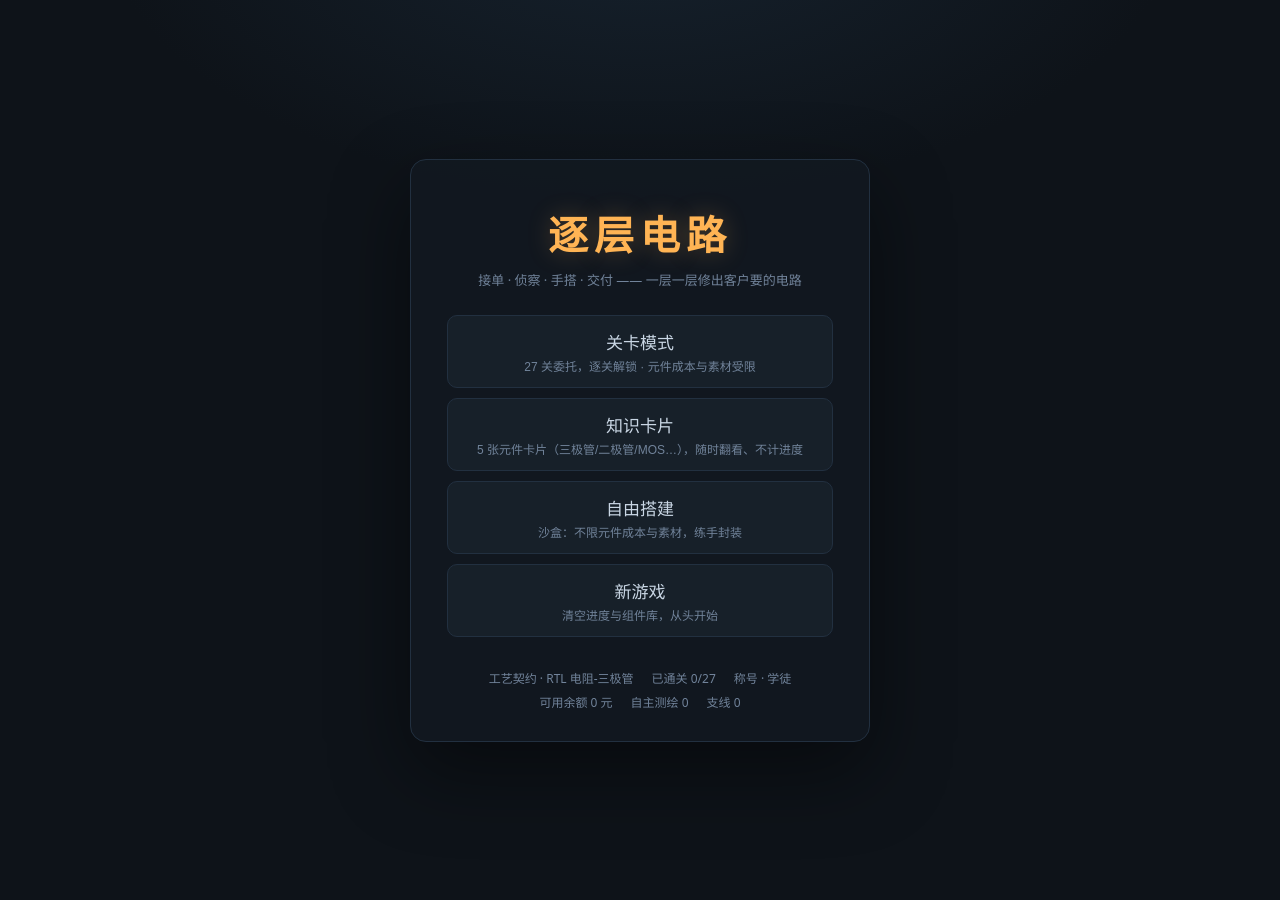
Test: 游戏壳：主菜单 / 关卡地图 / 会话恢复 › 主菜单 → 关卡模式 → 地图：第一章标题出现，未解锁的关节点不可点
Step 1. Click the button "关卡模式 27 关委托，逐关解锁 · 元件成本与素材受限" → {"x": 640, "y": 351}, box [447,314,833,388]
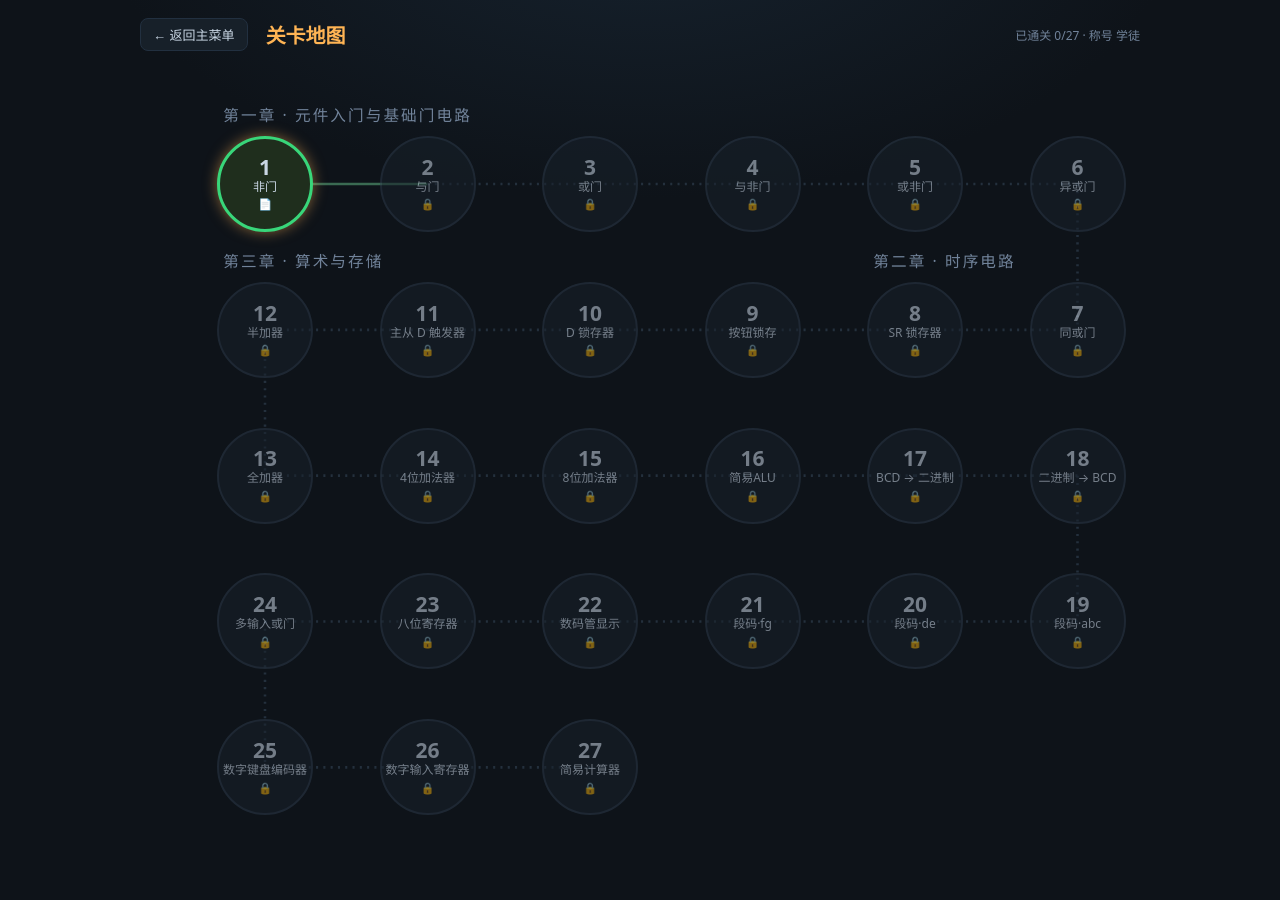
Expected: the text "第一章 · 元件入门与基础门电路" is shown, [223,104,472,126]
Now the button "1 非门 📄" is enabled, box [217,136,313,232]
Now the button "2 与门 🔒" is disabled, box [380,136,476,232]
